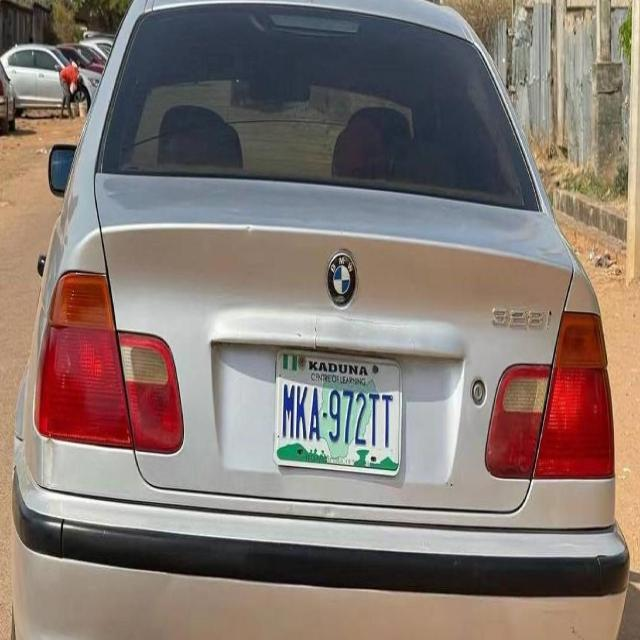Nigerian License Plate - vdataset benjamin-daria: (272, 344, 403, 477)
